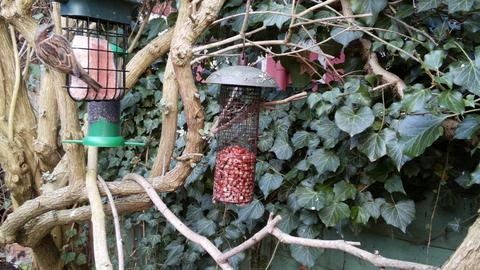sparrow: (34, 23, 104, 94)
